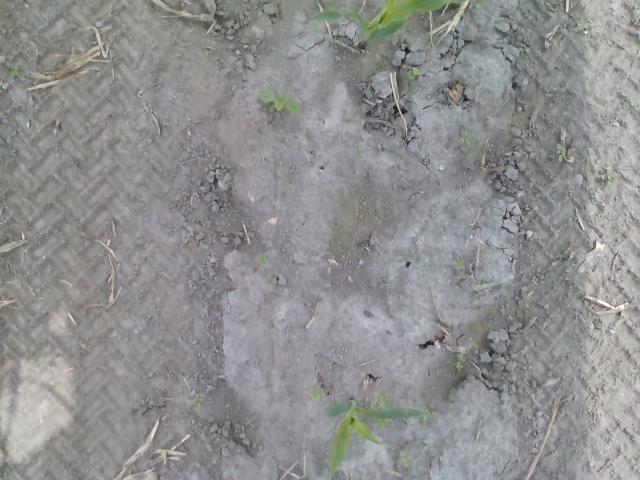Maize: (326, 394, 426, 480), (309, 0, 467, 49)
Weeds: (258, 90, 302, 114), (369, 390, 392, 410), (396, 450, 412, 468), (306, 384, 324, 400), (254, 252, 272, 268), (460, 130, 474, 147), (373, 417, 390, 429), (555, 143, 566, 161), (456, 353, 466, 371), (407, 67, 420, 80), (420, 408, 432, 422), (606, 170, 618, 184), (454, 258, 466, 270), (192, 396, 204, 408), (9, 64, 20, 77), (468, 0, 488, 7), (105, 4, 113, 17), (469, 337, 478, 348), (524, 295, 531, 308), (481, 245, 490, 254), (126, 462, 135, 470), (424, 42, 432, 50), (183, 248, 191, 256), (284, 174, 290, 183), (274, 0, 282, 5)
